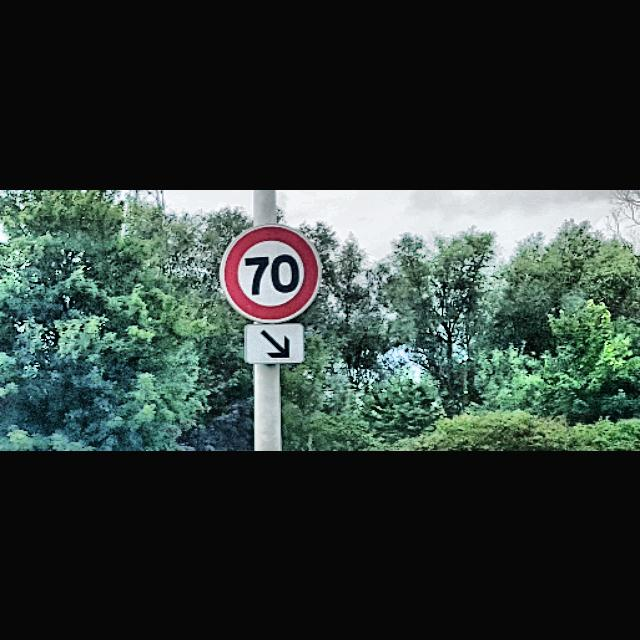speed_70: (220, 224, 322, 322)
